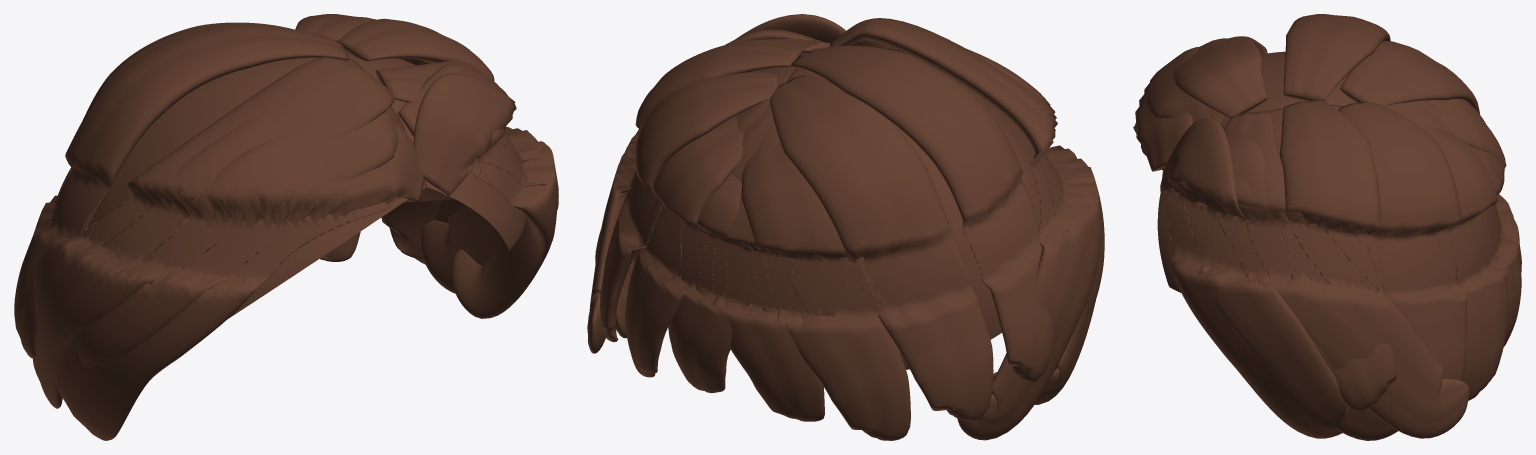
The model's file is Masculine-flow-headband260-hair.glb.
3 views of the same model, side by side, from view 1: azimuth 30°, elevation 25°; view 2: azimuth 150°, elevation 25°; view 3: azimuth 270°, elevation 25° (orthographic). The views are drawn at different scales.
Visible parts, largest first — view 1: 226 hair / Hair260 / layered flow; view 2: 226 hair / Hair260 / layered flow; view 3: 226 hair / Hair260 / layered flow.
Part boxes in pixels (<box>): 226 hair / Hair260 / layered flow: <box>14,14,558,440</box>; 226 hair / Hair260 / layered flow: <box>587,14,1104,440</box>; 226 hair / Hair260 / layered flow: <box>1133,14,1521,440</box>.
Bounding box in the file's own units: 1.12 × 0.7722 × 0.8635.
